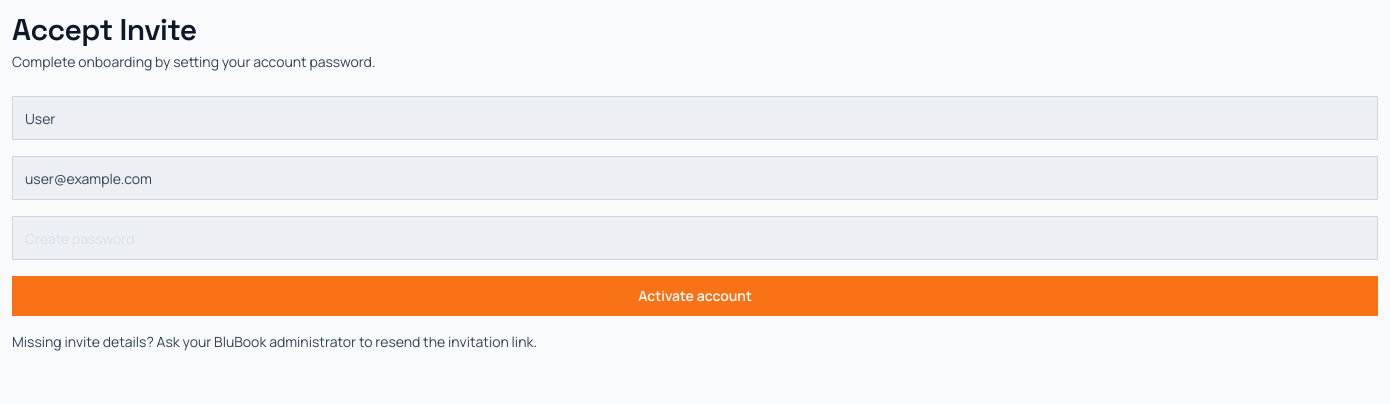
it: InvitePage › shows success message after activation and login
The width and height of the screenshot is (1390, 404).
Type "Password123" into the password field with placeholder "Create password" at coordinates (695, 238), box [12, 216, 1378, 260]
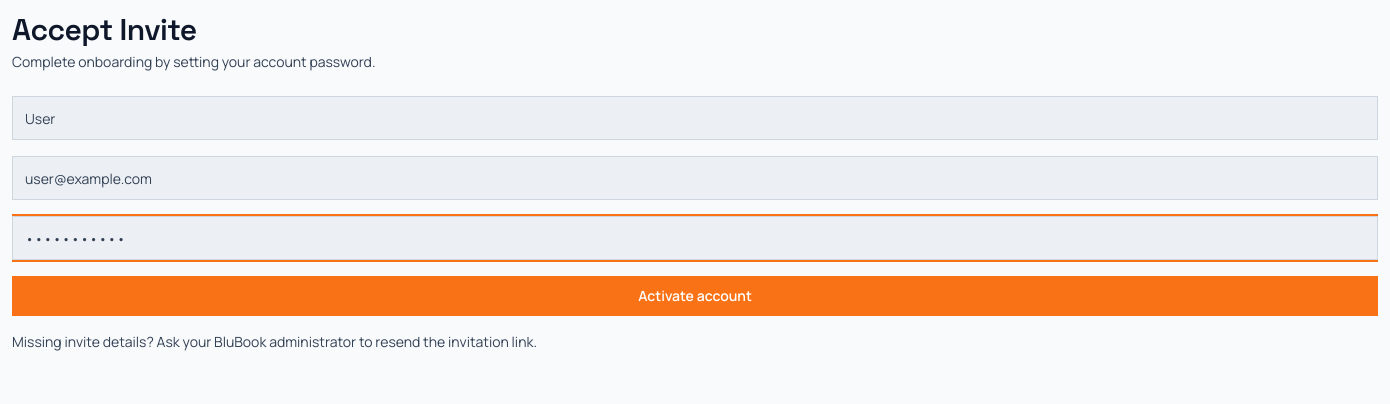
Click the button "Activate account" at coordinates (695, 296), box [12, 276, 1378, 316]
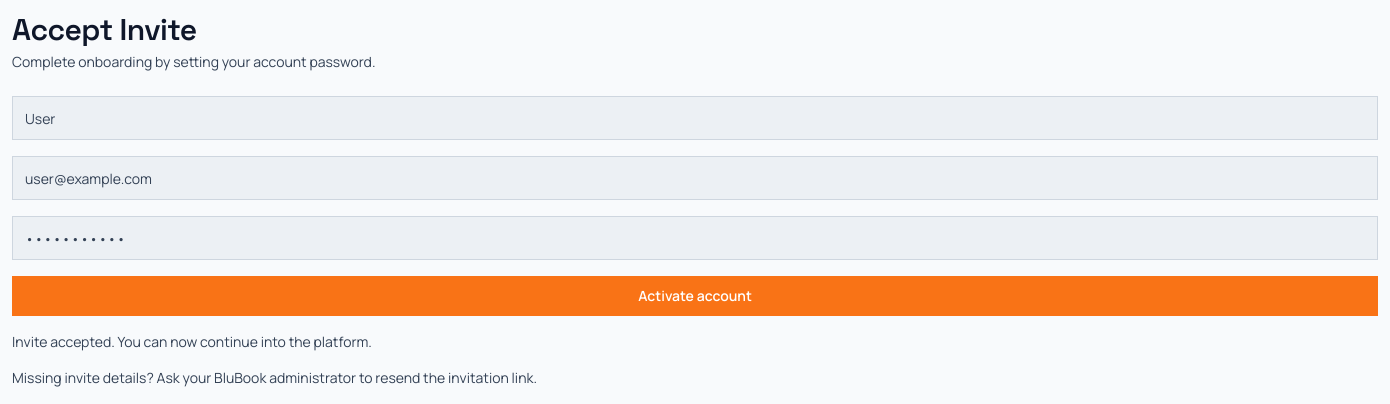
Check: the text "Invite accepted. You can now continue into the platform." is shown, box [12, 332, 372, 351]
